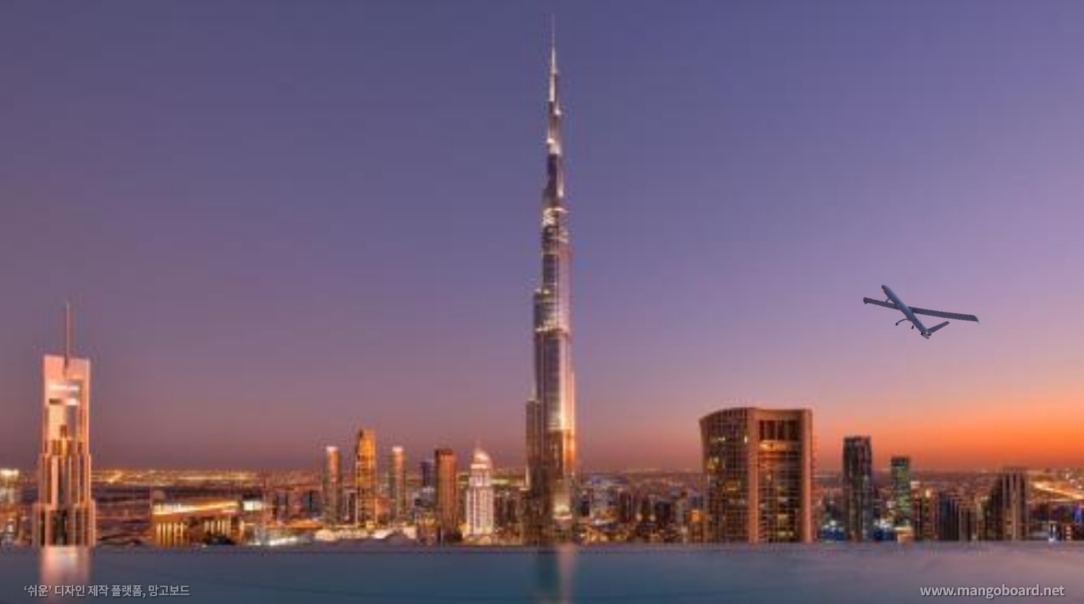military drone: (862, 284, 980, 339)
